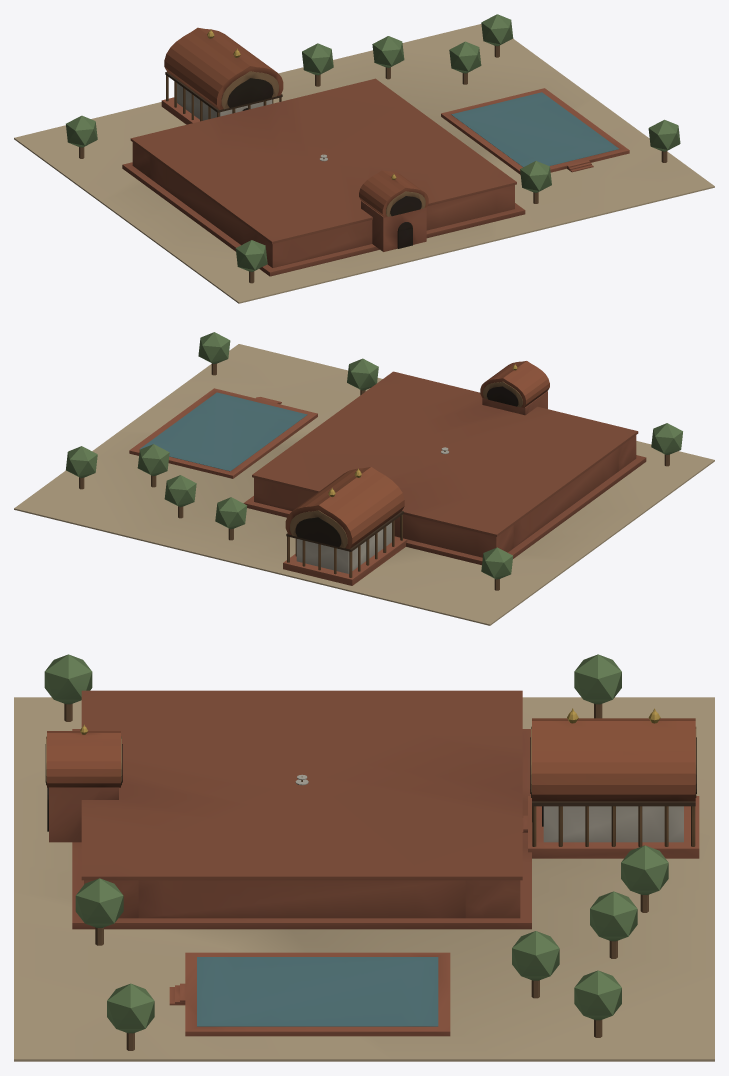
The model's file is kukkutarama.glb.
3 views of the same model, one above another, from view 1: azimuth 30°, elevation 25°; view 2: azimuth 150°, elevation 25°; view 3: azimuth 270°, elevation 25° (orthographic). The views are drawn at different scales.
Parts seen in each view (by area): view 1: p1_monastery, p0_monastery, p3_tank and grove, p2_stupa and shrine; view 2: p1_monastery, p0_monastery, p3_tank and grove, p2_stupa and shrine; view 3: p1_monastery, p0_monastery, p3_tank and grove, p2_stupa and shrine.
Boxes of the visible parts, x1,y1,x2,y2 form: p1_monastery: (122,78,525,276); p0_monastery: (14,24,714,303); p3_tank and grove: (66,14,680,283); p2_stupa and shrine: (161,27,327,161); p1_monastery: (243,361,646,565); p0_monastery: (14,344,714,625); p3_tank and grove: (66,332,682,590); p2_stupa and shrine: (283,447,449,585); p1_monastery: (45,690,531,929); p0_monastery: (14,697,714,1061); p3_tank and grove: (44,654,668,1050); p2_stupa and shrine: (295,708,699,858).
Size of the model in its own units: 110 by 17.93 by 90.
